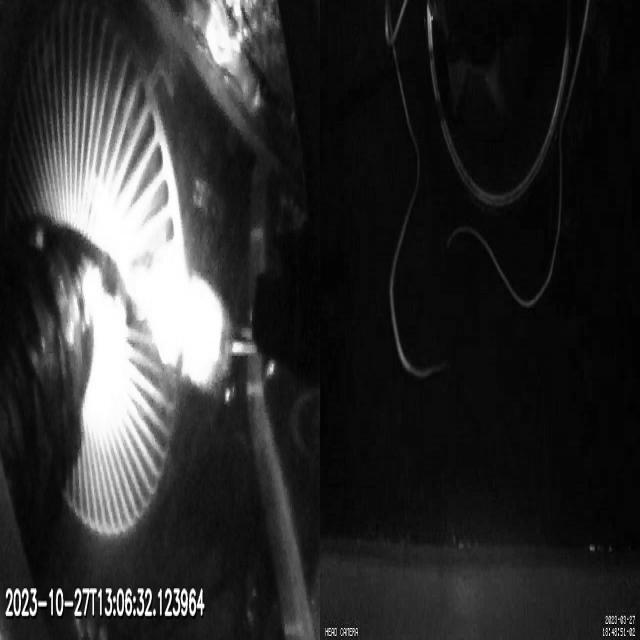head: (146, 254, 232, 394)
